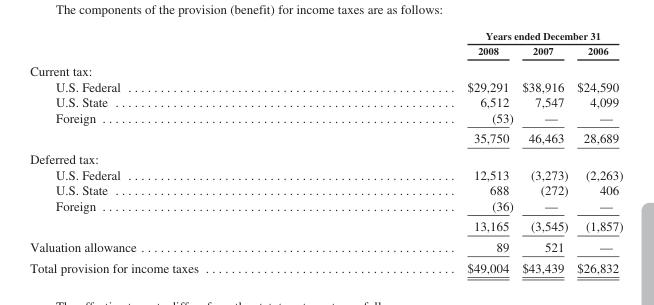table: (29, 29, 622, 274)
table column: (29, 29, 332, 274), (332, 29, 517, 274), (517, 29, 571, 274), (571, 29, 622, 274)
table column header: (29, 29, 622, 60)
table projected row header: (29, 60, 622, 78), (29, 148, 622, 166)
table row: (29, 127, 622, 148), (29, 215, 622, 236), (29, 236, 622, 256), (29, 60, 622, 78), (29, 109, 622, 127), (29, 148, 622, 166), (29, 197, 622, 215), (29, 256, 622, 274), (29, 43, 622, 60), (29, 78, 622, 94), (29, 181, 622, 197), (29, 94, 622, 109), (29, 166, 622, 181), (29, 29, 622, 43)
table spanning cell: (332, 29, 622, 43)
